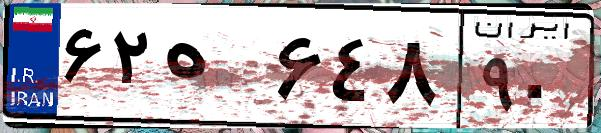0: (525, 38, 570, 115)
2: (110, 28, 158, 98)
4: (330, 28, 385, 110)
6: (270, 28, 330, 110), (57, 26, 110, 100)
8: (385, 28, 445, 110)
9: (475, 38, 525, 113)
ه: (158, 20, 270, 120)
